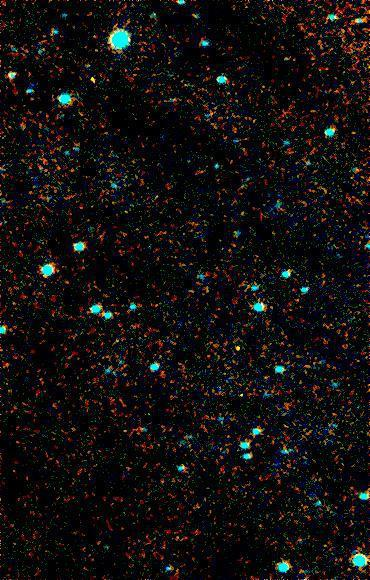star: (222, 331, 252, 361)
